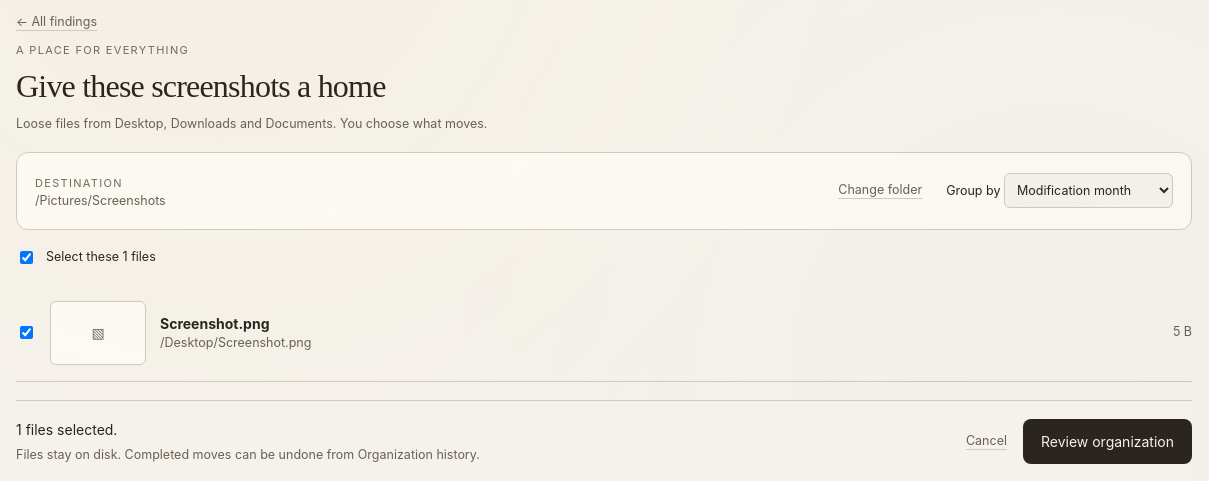
Scenario: selection changes invalidate a plan and prevent an empty move
(page scrolled)
Click the button "Review organization": click(1108, 441) [1023, 419, 1192, 464]
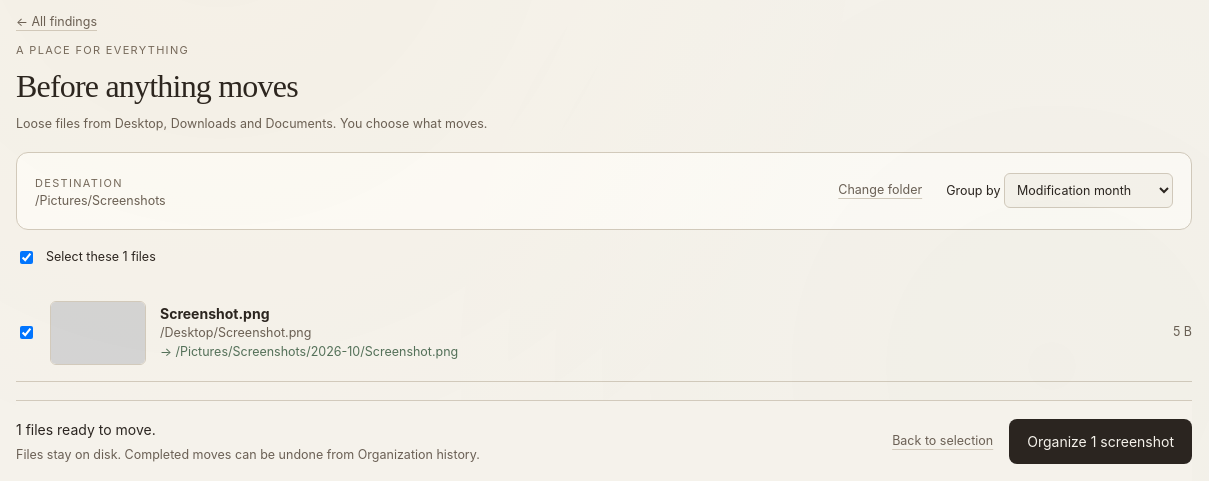
Click the checkbox named "Organize Screenshot.png": click(26, 332) [20, 326, 33, 339]
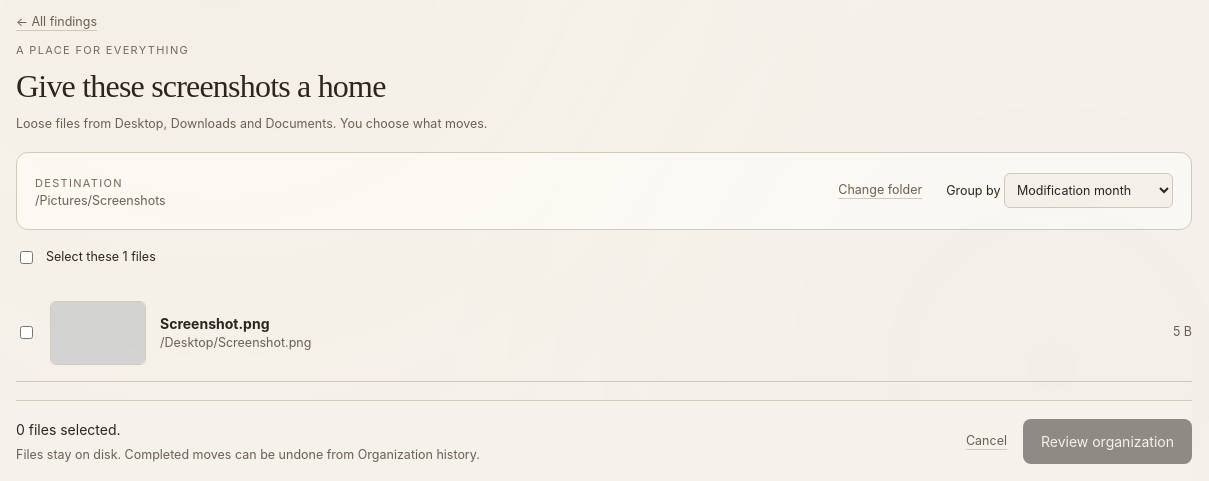
Check: the text "Organize 1 screenshot" is gone
Check: the button "Review organization" is disabled, box [1023, 419, 1192, 464]
